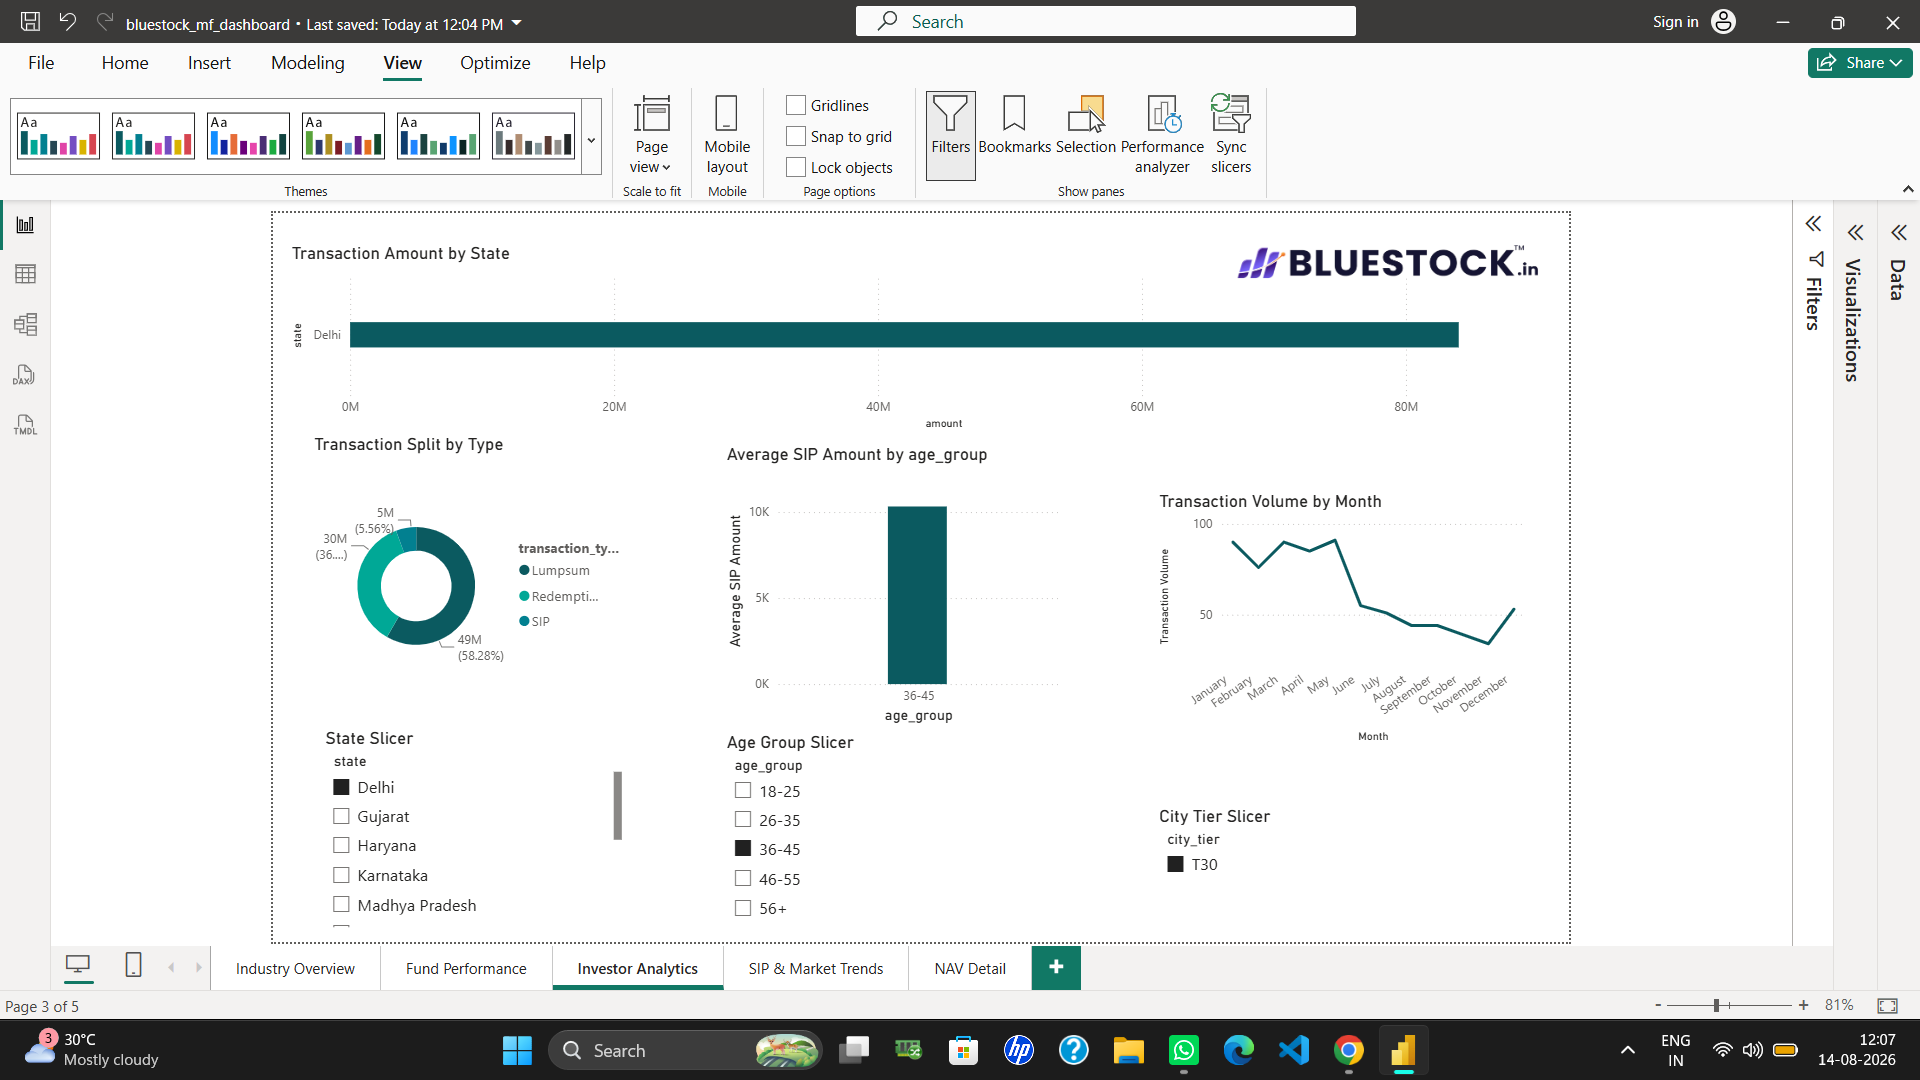

This screenshot's page, from the dashboard's own definition file:
{"tool":"powerbi","page":{"name":"Investor Analytics","canvas":[1280,720],"ordinal":2},"visuals":[{"type":"clusteredBarChart","title":"Transaction Amount by State","fields":{"Category":["Cleaned_08_investor_transactions (1) (1).state"],"Y":["Sum(Cleaned_08_investor_transactions (1) (1).amount_inr)"]},"box":[13.2,29.4,1252.9,189.7],"z":0},{"type":"donutChart","title":"Transaction Split by Type","fields":{"Category":["Cleaned_08_investor_transactions (1) (1).transaction_type"],"Y":["Sum(Cleaned_08_investor_transactions (1) (1).amount_inr)"]},"box":[35.3,219.1,314.7,280.9],"z":1000},{"type":"clusteredColumnChart","fields":{"Category":["Cleaned_08_investor_transactions (1) (1).age_group"],"Y":["Cleaned_08_investor_transactions (1) (1).Average SIP Amount"]},"box":[442.6,227.9,338.2,280.9],"z":2000},{"type":"lineChart","fields":{"Category":["Cleaned_08_investor_transactions (1) (1).transaction_date.Variation.Date Hierarchy.Month"],"Y":["Cleaned_08_investor_transactions (1) (1).Transaction Volume"]},"box":[870.6,273.5,370.6,254.4],"z":3000},{"type":"slicer","title":"State Slicer","fields":{"Values":["Cleaned_08_investor_transactions (1) (1).state"]},"box":[47.1,508.8,302.9,201.5],"z":4000},{"type":"slicer","title":"Age Group Slicer","fields":{"Values":["Cleaned_08_investor_transactions (1) (1).age_group"]},"box":[442.6,511.8,323.5,198.5],"z":5000},{"type":"slicer","title":"City Tier Slicer","fields":{"Values":["Cleaned_08_investor_transactions (1) (1).city_tier"]},"box":[870.6,585.3,298.5,102.9],"z":6000},{"type":"image","box":[951.5,14.7,300,66.2],"z":6001}]}

Visuals, with their boxes on the page's 1280x720 design canvas (x1, y1, x2, y2). These are canvas units, not pixel positions in the 1920x1080 screenshot, which may show the page scaled, cropped or inside an application window:
"Transaction Amount by State" clusteredBarChart: BBox(13, 29, 1266, 219)
"Transaction Split by Type" donutChart: BBox(35, 219, 350, 500)
clusteredColumnChart - Cleaned_08_investor_transactions (1) (1).age_group x Cleaned_08_investor_transactions (1) (1).Average SIP Amount: BBox(443, 228, 781, 509)
lineChart - Cleaned_08_investor_transactions (1) (1).transaction_date.Variation.Date Hierarchy.Month x Cleaned_08_investor_transactions (1) (1).Transaction Volume: BBox(871, 274, 1241, 528)
"State Slicer" slicer: BBox(47, 509, 350, 710)
"Age Group Slicer" slicer: BBox(443, 512, 766, 710)
"City Tier Slicer" slicer: BBox(871, 585, 1169, 688)
image: BBox(952, 15, 1252, 81)
